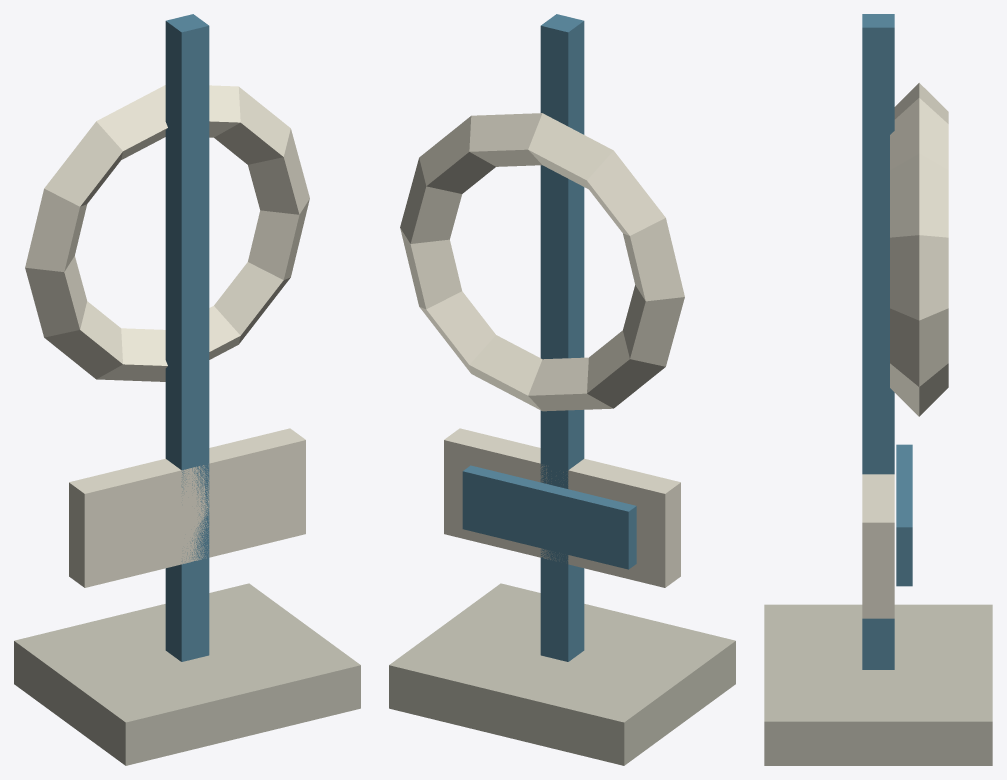
Rendered from KOL_HBR_PROP_13.fbx.
3 renders of one model, left to right at view 1: azimuth 30°, elevation 25°; view 2: azimuth 150°, elevation 25°; view 3: azimuth 270°, elevation 25°, orthographic.
Parts seen in each view (by area): view 1: KOL_HBR_PROP_13__Model__White, KOL_HBR_PROP_13__Model__Concrete, KOL_HBR_PROP_13__Model__Blue; view 2: KOL_HBR_PROP_13__Model__White, KOL_HBR_PROP_13__Model__Concrete, KOL_HBR_PROP_13__Model__Blue; view 3: KOL_HBR_PROP_13__Model__Concrete, KOL_HBR_PROP_13__Model__White, KOL_HBR_PROP_13__Model__Blue.
Part boxes in pixels (x1,y1,x2,y2): KOL_HBR_PROP_13__Model__White: (25, 85, 309, 587); KOL_HBR_PROP_13__Model__Concrete: (14, 583, 360, 765); KOL_HBR_PROP_13__Model__Blue: (165, 14, 209, 661); KOL_HBR_PROP_13__Model__White: (400, 113, 684, 587); KOL_HBR_PROP_13__Model__Concrete: (389, 583, 735, 765); KOL_HBR_PROP_13__Model__Blue: (462, 14, 636, 661); KOL_HBR_PROP_13__Model__Concrete: (764, 604, 992, 765); KOL_HBR_PROP_13__Model__White: (862, 83, 948, 618); KOL_HBR_PROP_13__Model__Blue: (862, 14, 912, 669).
Bounding box in the file's own units: 2.06 × 4.65 × 1.4.
